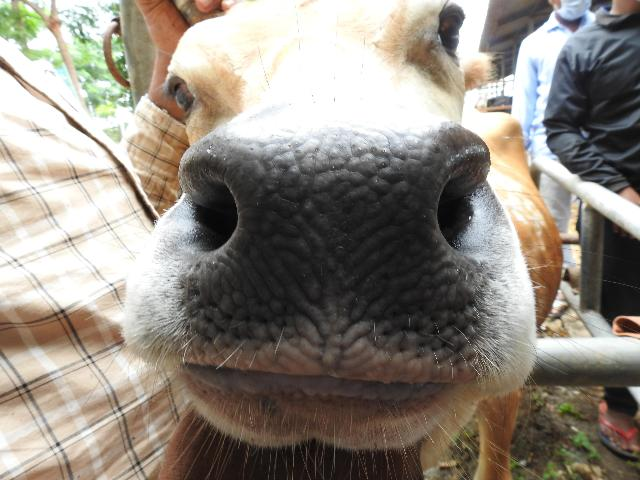Muzzle: (237, 140, 433, 377)
